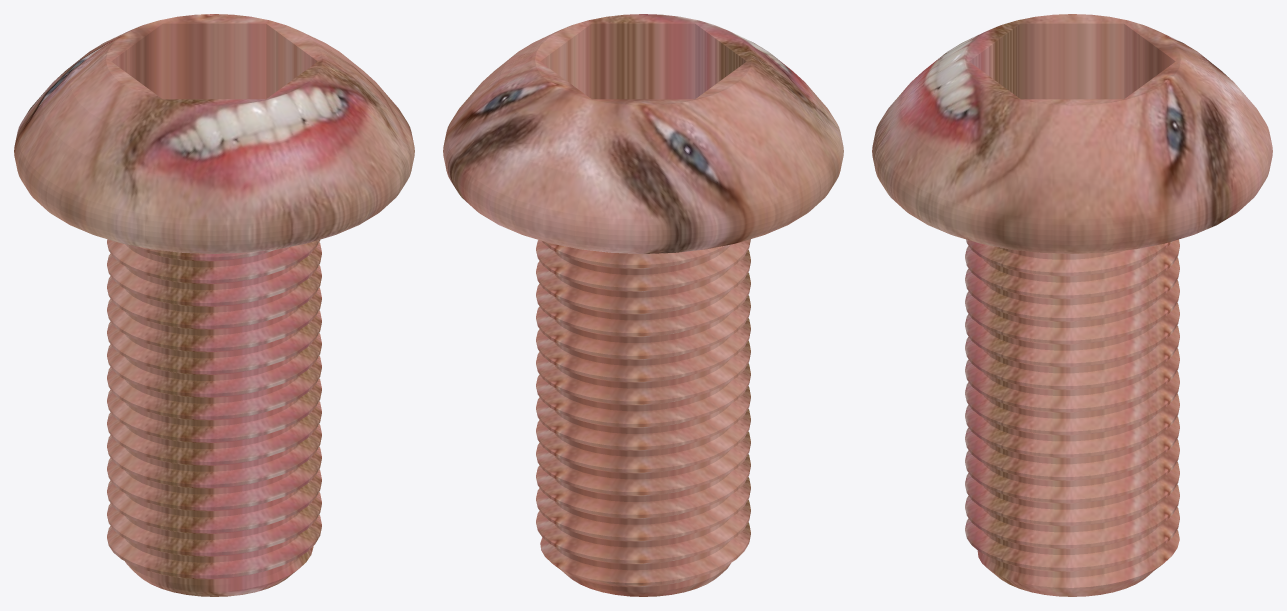
The model's file is kroeger-dome-allen-bolt.glb.
3 renders of one model, left to right at view 1: azimuth 30°, elevation 25°; view 2: azimuth 150°, elevation 25°; view 3: azimuth 270°, elevation 25°, orthographic.
Visible parts, largest first — view 1: Bolt.018; view 2: Bolt.018; view 3: Bolt.018.
Boxes of the visible parts, x1,y1,x2,y2 form: Bolt.018: [14, 14, 414, 596]; Bolt.018: [443, 14, 843, 596]; Bolt.018: [872, 14, 1272, 596].
Bounding box in the file's own units: 0.0112 × 0.0155 × 0.0112.
1 material, 1 textured.
